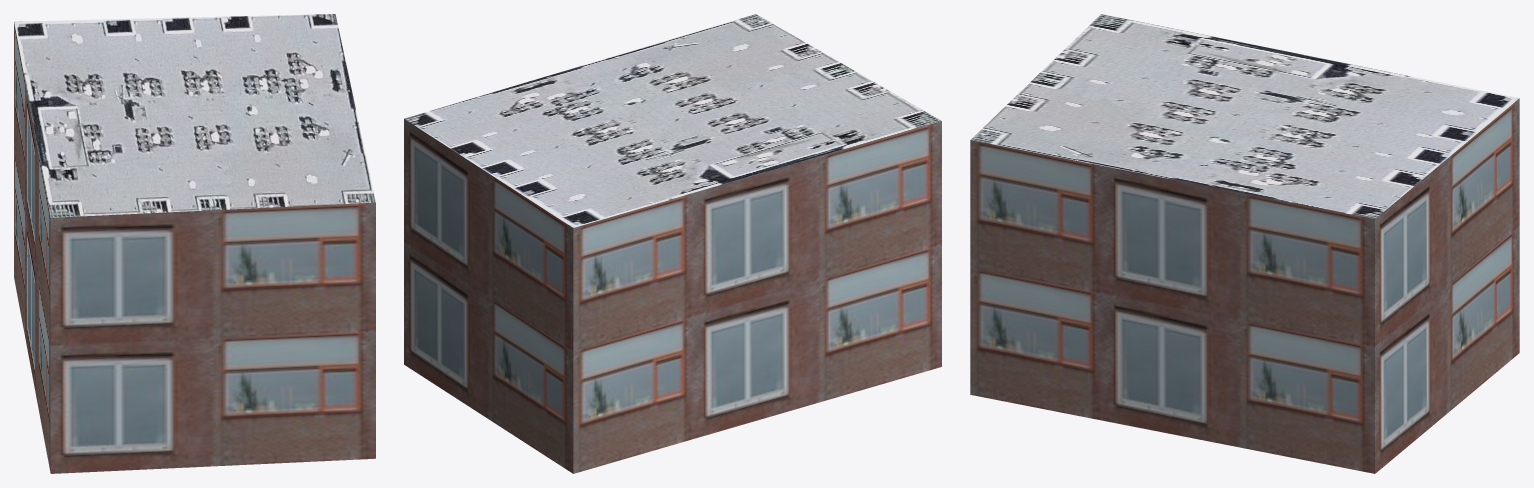
Rendered from ResTex__2064.fbx.
The picture shows the model from 3 angles, left to right: view 1: azimuth 30°, elevation 25°; view 2: azimuth 150°, elevation 25°; view 3: azimuth 270°, elevation 25°; orthographic projection. The views are drawn at different scales.
Visible parts, largest first — view 1: CityEngineMaterial_19_m, CityEngineMaterial_15_m; view 2: CityEngineMaterial_19_m, CityEngineMaterial_15_m; view 3: CityEngineMaterial_19_m, CityEngineMaterial_15_m.
Part boxes in pixels (x1,y1,x2,y2): CityEngineMaterial_19_m: [14, 22, 375, 473]; CityEngineMaterial_15_m: [14, 14, 375, 217]; CityEngineMaterial_19_m: [404, 119, 941, 473]; CityEngineMaterial_15_m: [404, 14, 941, 227]; CityEngineMaterial_19_m: [970, 98, 1519, 473]; CityEngineMaterial_15_m: [971, 14, 1518, 218].
Bounding box in the file's own units: 10.36 × 6 × 11.72.
Materials: 2 (2 with a texture image).
